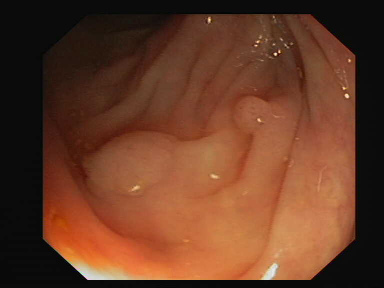polyp: (54, 104, 205, 224), (224, 82, 285, 132)
